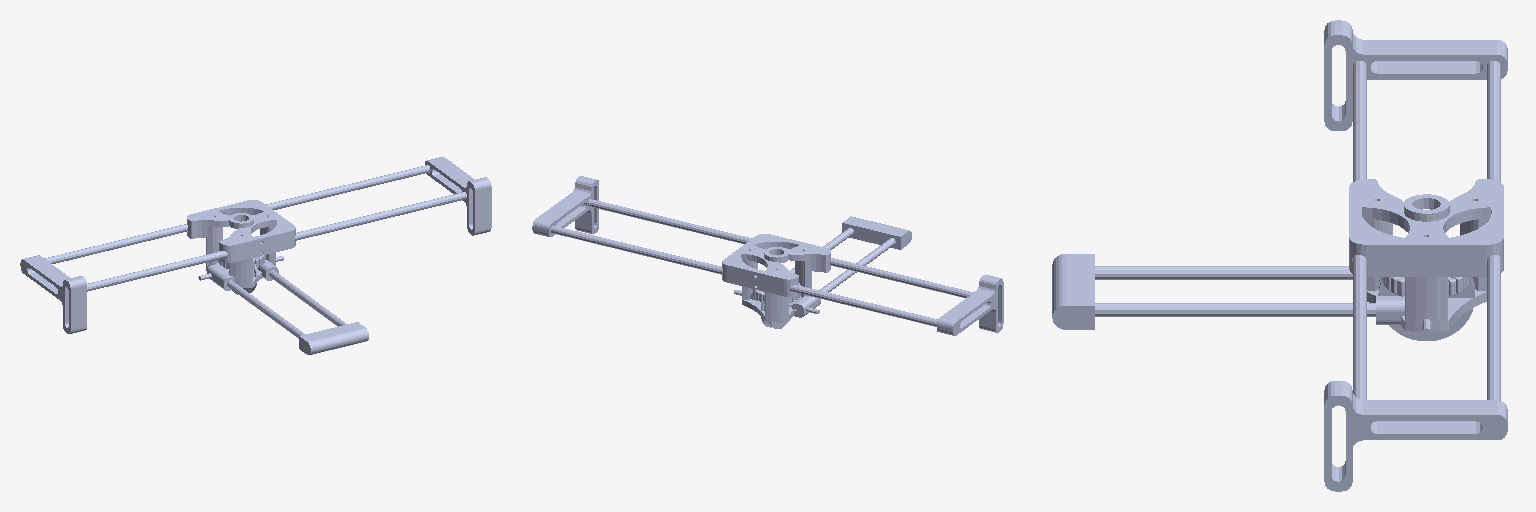
URDF robot description (TorquePole):
<?xml version="1.0" encoding="utf-8"?>
<!-- This URDF was automatically created by SolidWorks to URDF Exporter! Originally created by [author] ([email redacted]) 
     Commit Version: 1.6.0-4-g7f85cfe  Build Version: 1.6.7995.38578
     For more information, please see http://wiki.ros.org/sw_urdf_exporter -->
<robot
  name="TorquePole">
  <link
    name="base_link">
    <inertial>
      <origin
        xyz="-0.014583 0.00028957 -0.19308"
        rpy="0 0 0" />
      <mass
        value="0.36224" />
      <inertia
        ixx="0.00046889"
        ixy="1.9195E-10"
        ixz="1.1612E-06"
        iyy="0.0002774"
        iyz="1.3223E-09"
        izz="0.00038212" />
    </inertial>
    <visual>
      <origin
        xyz="0 0 0"
        rpy="0 0 0" />
      <geometry>
        <mesh
          filename="package://TorquePole/meshes/base_link.STL" />
      </geometry>
      <material
        name="">
        <color
          rgba="0.79216 0.81961 0.93333 1" />
      </material>
    </visual>
    <collision>
      <origin
        xyz="0 0 0"
        rpy="0 0 0" />
      <geometry>
        <mesh
          filename="package://TorquePole/meshes/base_link.STL" />
      </geometry>
    </collision>
  </link>
  <link
    name="pendulum">
    <inertial>
      <origin
        xyz="-0.0039392 -0.073535 -2.3638E-05"
        rpy="0 0 0" />
      <mass
        value="0.066367" />
      <inertia
        ixx="2.6897E-05"
        ixy="-8.6352E-09"
        ixz="-1.1815E-08"
        iyy="1.5509E-05"
        iyz="6.4928E-11"
        izz="3.2672E-05" />
    </inertial>
    <visual>
      <origin
        xyz="0 0 0"
        rpy="0 0 0" />
      <geometry>
        <mesh
          filename="package://TorquePole/meshes/pendulum.STL" />
      </geometry>
      <material
        name="">
        <color
          rgba="0.79216 0.81961 0.93333 1" />
      </material>
    </visual>
    <collision>
      <origin
        xyz="0 0 0"
        rpy="0 0 0" />
      <geometry>
        <mesh
          filename="package://TorquePole/meshes/pendulum.STL" />
      </geometry>
    </collision>
  </link>
  <joint
    name="PullyJoint"
    type="revolute">
    <origin
      xyz="0 0 0"
      rpy="0 0 0" />
    <parent
      link="base_link" />
    <child
      link="pendulum" />
    <axis
      xyz="-1 0 0" />
    <limit
      lower="6.28"
      upper="-1.57"
      effort="3"
      velocity="300" />
  </joint>
</robot>

--- What the picture shows (computed from the rendered views, not written in the file) ---
Views: 3 orthographic renders of the robot side by side, from view 1: azimuth 30°, elevation 25°; view 2: azimuth 150°, elevation 25°; view 3: azimuth 270°, elevation 25°.
Robot: TorquePole — 2 links, 1 joints (1 revolute); root link base_link; default pose: all joints at 0.
Links seen in each view (by area): view 1: base_link, pendulum; view 2: base_link, pendulum; view 3: base_link, pendulum.
Boxes of the visible links, x1,y1,x2,y2 form: base_link: (20,157,491,333); pendulum: (198,256,368,354); base_link: (532,176,1003,335); pendulum: (734,216,911,328); base_link: (1324,20,1507,491); pendulum: (1052,254,1474,340).
Bounding box of the posed robot: 0.504 × 0.2585 × 0.0884 m (x, y, z).
2 mesh visuals loaded from 2 distinct referenced files (2 binary STL).
